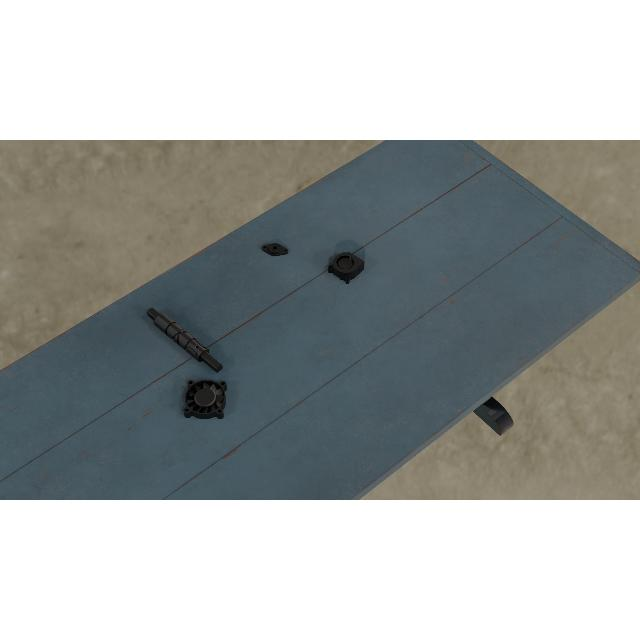Pieza1: (144, 302, 226, 378)
Pieza2: (260, 240, 290, 258)
Pieza3: (327, 248, 365, 286)
Pieza4: (182, 380, 228, 420)
